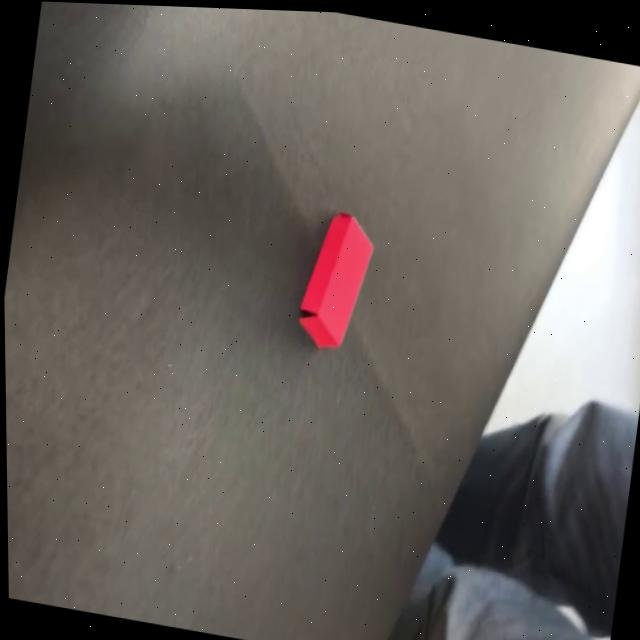red block: (293, 204, 381, 355)
